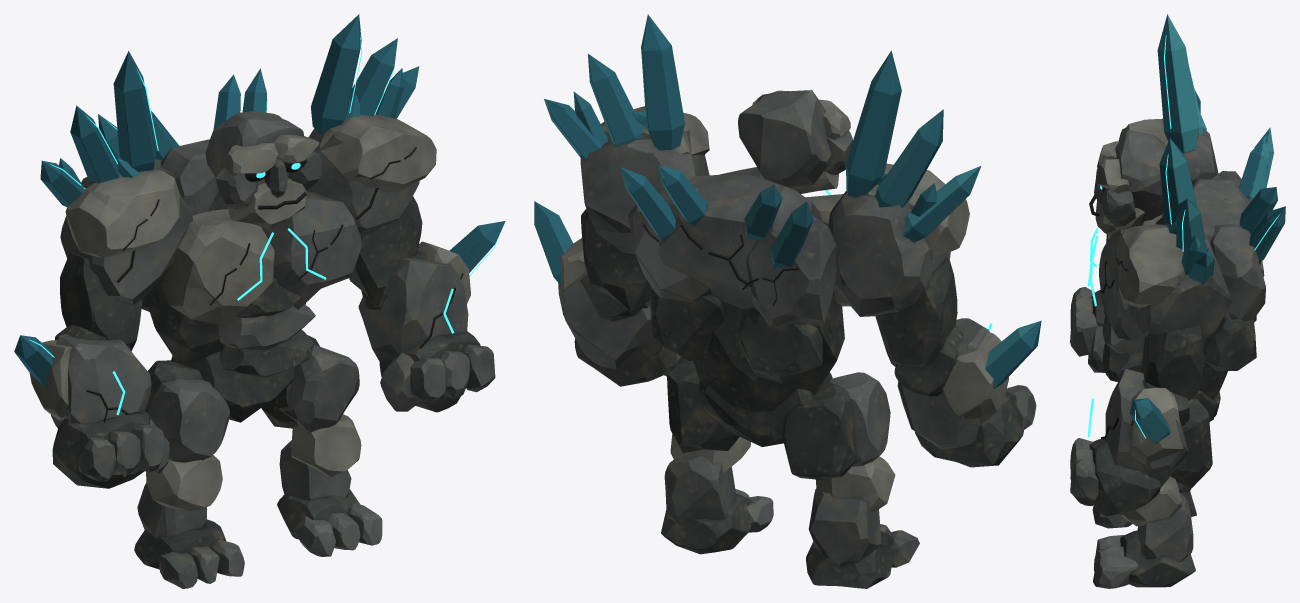
File: guardian.glb
3 views of the same model, side by side, from view 1: azimuth 30°, elevation 25°; view 2: azimuth 150°, elevation 25°; view 3: azimuth 270°, elevation 25° (orthographic). The views are drawn at different scales.
Visible parts, largest first — view 1: Body_Baked.079, ArmUpperL_Baked.022, ArmUpperR_Baked.022, ArmLowerR_Baked.022, ArmLowerL_Baked.022, Head_Baked.044, LegLowerR_Baked.022, LegLowerL_Baked.022, LegUpperL_Baked.022, LegUpperR_Baked.022; view 2: Body_Baked.079, ArmUpperL_Baked.022, ArmUpperR_Baked.022, ArmLowerL_Baked.022, ArmLowerR_Baked.022, LegLowerL_Baked.022, Head_Baked.044, LegLowerR_Baked.022, LegUpperL_Baked.022, LegUpperR_Baked.022; view 3: Body_Baked.079, ArmUpperR_Baked.022, ArmLowerR_Baked.022, LegLowerR_Baked.022, Head_Baked.044, ArmUpperL_Baked.022, ArmLowerL_Baked.022, LegUpperR_Baked.022, LegLowerL_Baked.022, Body_Glow.032.
Boxes of the visible parts, x1=… form: Body_Baked.079: x1=98, y1=68, x2=361, y2=422; ArmUpperL_Baked.022: x1=40, y1=51, x2=193, y2=350; ArmUpperR_Baked.022: x1=307, y1=14, x2=436, y2=299; ArmLowerR_Baked.022: x1=358, y1=221, x2=505, y2=412; ArmLowerL_Baked.022: x1=14, y1=324, x2=169, y2=488; Head_Baked.044: x1=205, y1=111, x2=322, y2=229; LegLowerR_Baked.022: x1=277, y1=414, x2=382, y2=556; LegLowerL_Baked.022: x1=134, y1=455, x2=244, y2=588; LegUpperL_Baked.022: x1=145, y1=360, x2=230, y2=462; LegUpperR_Baked.022: x1=261, y1=335, x2=359, y2=432; Body_Baked.079: x1=620, y1=165, x2=850, y2=446; ArmUpperL_Baked.022: x1=828, y1=50, x2=981, y2=366; ArmUpperR_Baked.022: x1=544, y1=14, x2=709, y2=311; ArmLowerL_Baked.022: x1=894, y1=318, x2=1041, y2=467; ArmLowerR_Baked.022: x1=534, y1=201, x2=682, y2=386; LegLowerL_Baked.022: x1=806, y1=456, x2=919, y2=588; Head_Baked.044: x1=738, y1=90, x2=852, y2=193; LegLowerR_Baked.022: x1=661, y1=434, x2=773, y2=554; LegUpperL_Baked.022: x1=783, y1=372, x2=890, y2=479; LegUpperR_Baked.022: x1=667, y1=357, x2=739, y2=453; Body_Baked.079: x1=1099, y1=127, x2=1285, y2=421; ArmUpperR_Baked.022: x1=1116, y1=138, x2=1231, y2=400; ArmLowerR_Baked.022: x1=1070, y1=369, x2=1189, y2=516; LegLowerR_Baked.022: x1=1093, y1=476, x2=1195, y2=588; Head_Baked.044: x1=1089, y1=130, x2=1166, y2=235; ArmUpperL_Baked.022: x1=1118, y1=14, x2=1218, y2=216; ArmLowerL_Baked.022: x1=1070, y1=287, x2=1105, y2=372; LegUpperR_Baked.022: x1=1170, y1=399, x2=1212, y2=487; LegLowerL_Baked.022: x1=1092, y1=482, x2=1196, y2=528; Body_Glow.032: x1=1090, y1=136, x2=1279, y2=306.
Size of the model in its own units: 2.55 by 2.64 by 1.06.
Materials: 2 (1 with a texture image).
